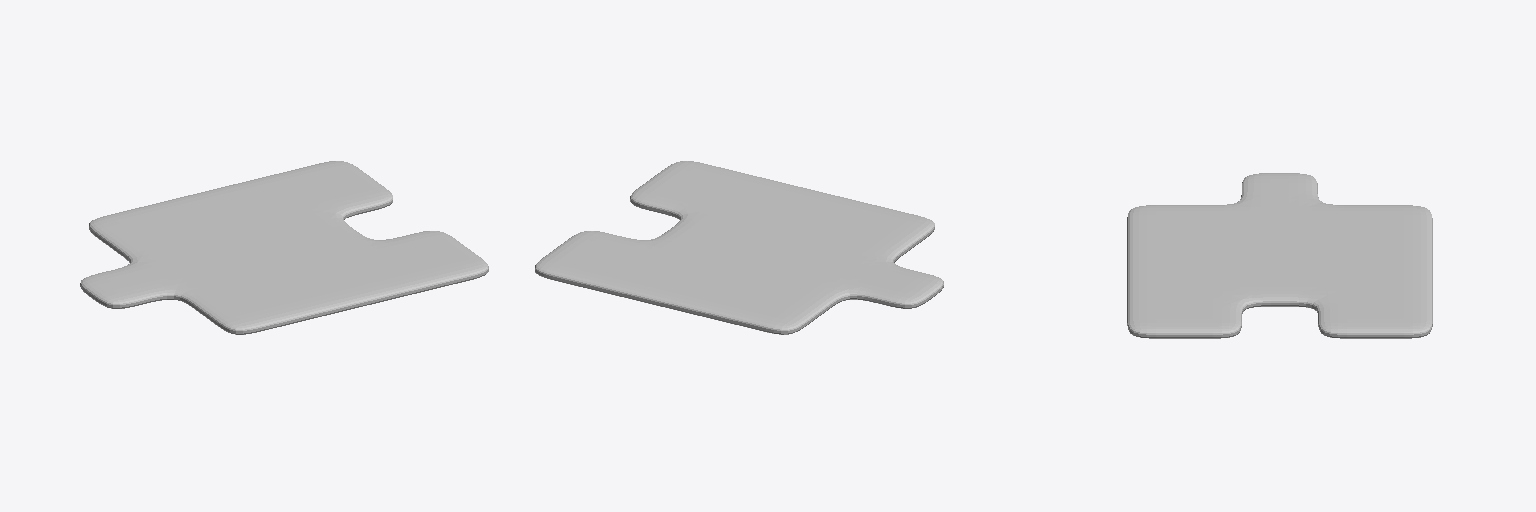
File: GoldenPuzzle-15-OMOF.obj
The picture shows the model from 3 angles: view 1: azimuth 30°, elevation 25°; view 2: azimuth 150°, elevation 25°; view 3: azimuth 270°, elevation 25°; orthographic projection.
Visible parts, largest first — view 1: Puzzle.015; view 2: Puzzle.015; view 3: Puzzle.015.
Part boxes in pixels (bbox=[...]): Puzzle.015: bbox=[80, 161, 488, 334]; Puzzle.015: bbox=[535, 161, 943, 334]; Puzzle.015: bbox=[1127, 173, 1432, 338].
Size of the model in its own units: 0.3125 by 0.0092 by 0.2511.